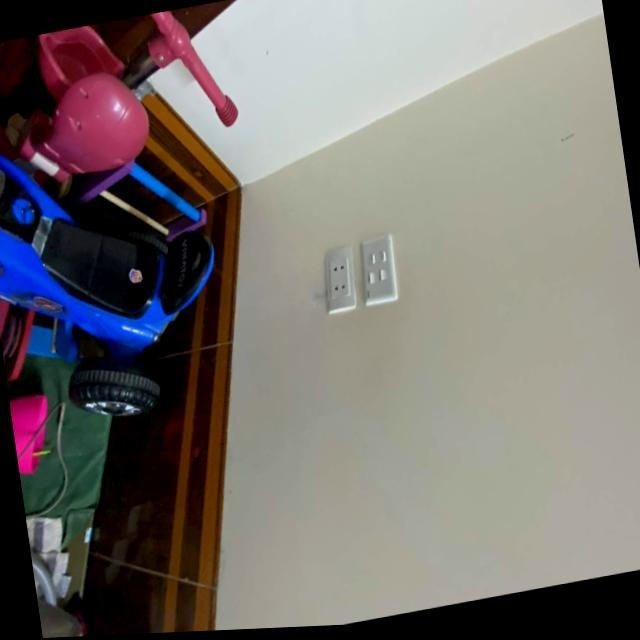outlet: (317, 244, 360, 315)
